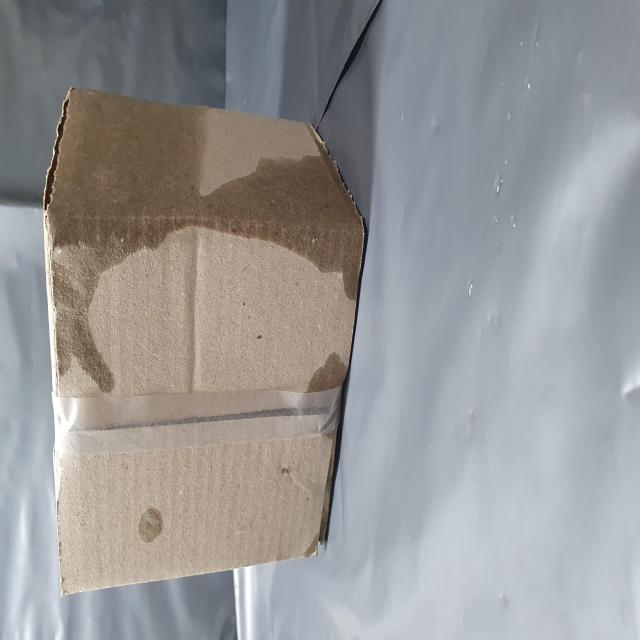wet: (140, 86, 308, 631)
